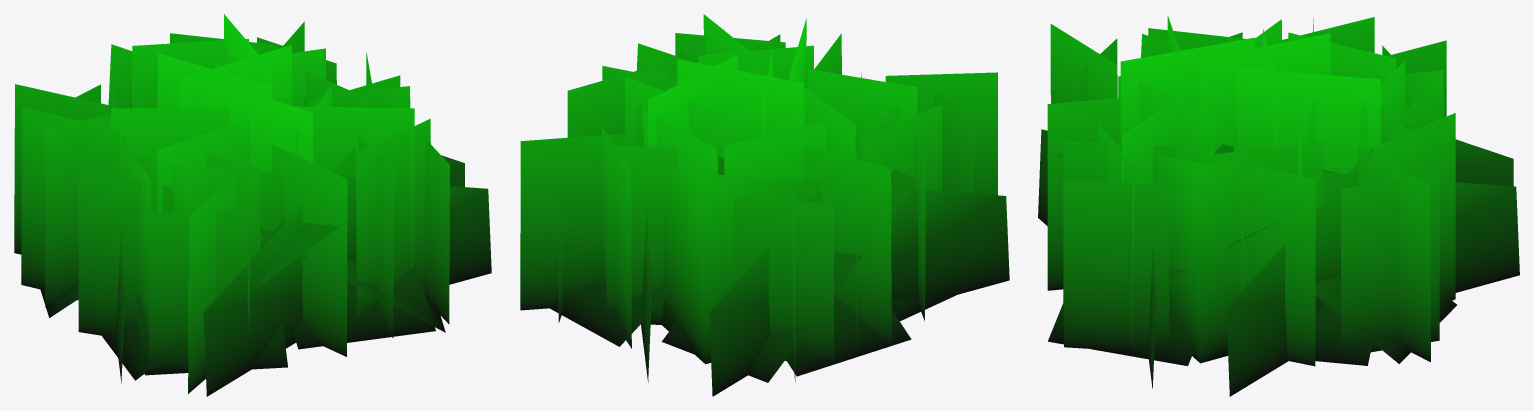
Rendered from TGV_Wheat_Patch_01B.fbx.
3 renders of one model, left to right at view 1: azimuth 30°, elevation 25°; view 2: azimuth 150°, elevation 25°; view 3: azimuth 270°, elevation 25°, orthographic. The views are drawn at different scales.
Parts seen in each view (by area): view 1: TGV_Wheat_Patch_01B_LOD0; view 2: TGV_Wheat_Patch_01B_LOD0; view 3: TGV_Wheat_Patch_01B_LOD0.
Part boxes in pixels (x1,y1,x2,y2): TGV_Wheat_Patch_01B_LOD0: (14, 14, 491, 396); TGV_Wheat_Patch_01B_LOD0: (520, 14, 1009, 396); TGV_Wheat_Patch_01B_LOD0: (1038, 15, 1519, 396).
Bounding box in the file's own units: 273 × 143 × 270.
